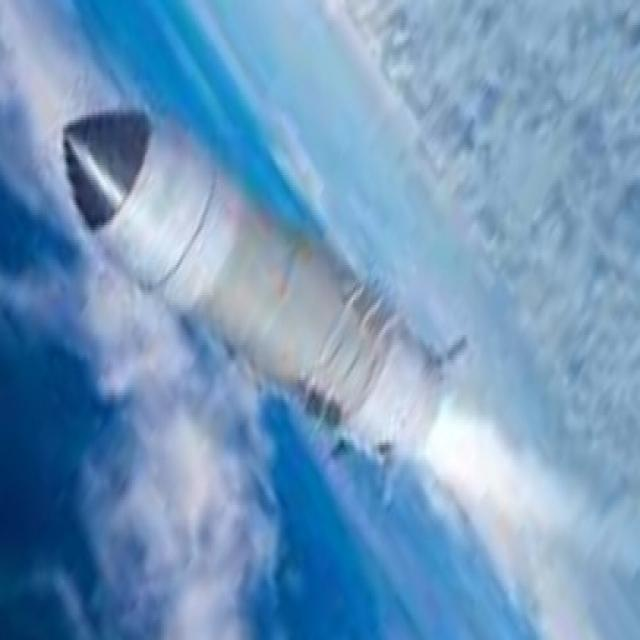missile: (53, 104, 474, 513)
